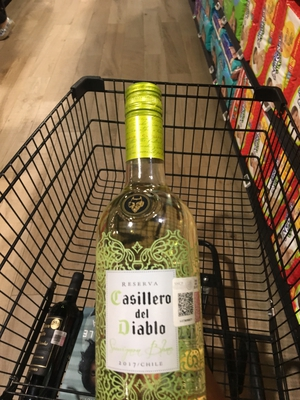casillero del diablo sauvignon blanc: (91, 76, 204, 395)
